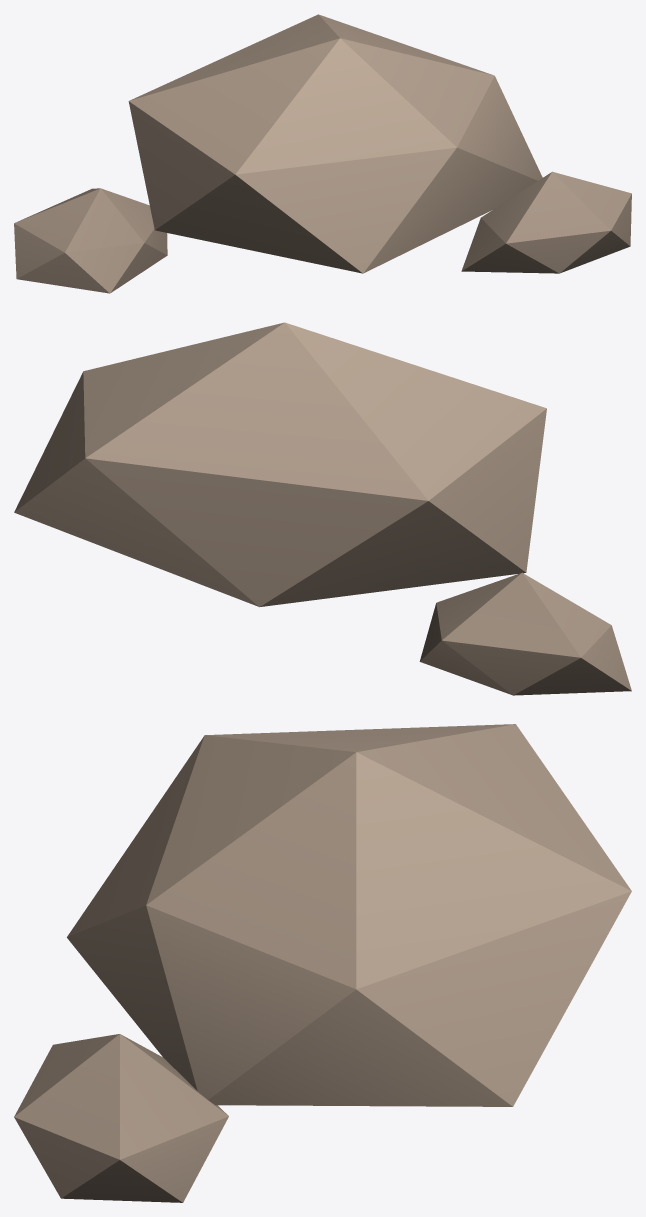
File: mil_rock_1.glb
3 views of the same model, one above another, from view 1: azimuth 30°, elevation 25°; view 2: azimuth 150°, elevation 25°; view 3: azimuth 270°, elevation 25° (orthographic). The views are drawn at different scales.
Visible parts, largest first — view 1: mil_rock_1; view 2: mil_rock_1; view 3: mil_rock_1.
Boxes of the visible parts, <box> form: mil_rock_1: <box>14,14,631,293</box>; mil_rock_1: <box>14,322,631,695</box>; mil_rock_1: <box>14,724,631,1202</box>.
Size of the model in its own units: 3.89 by 1.47 by 2.58.
